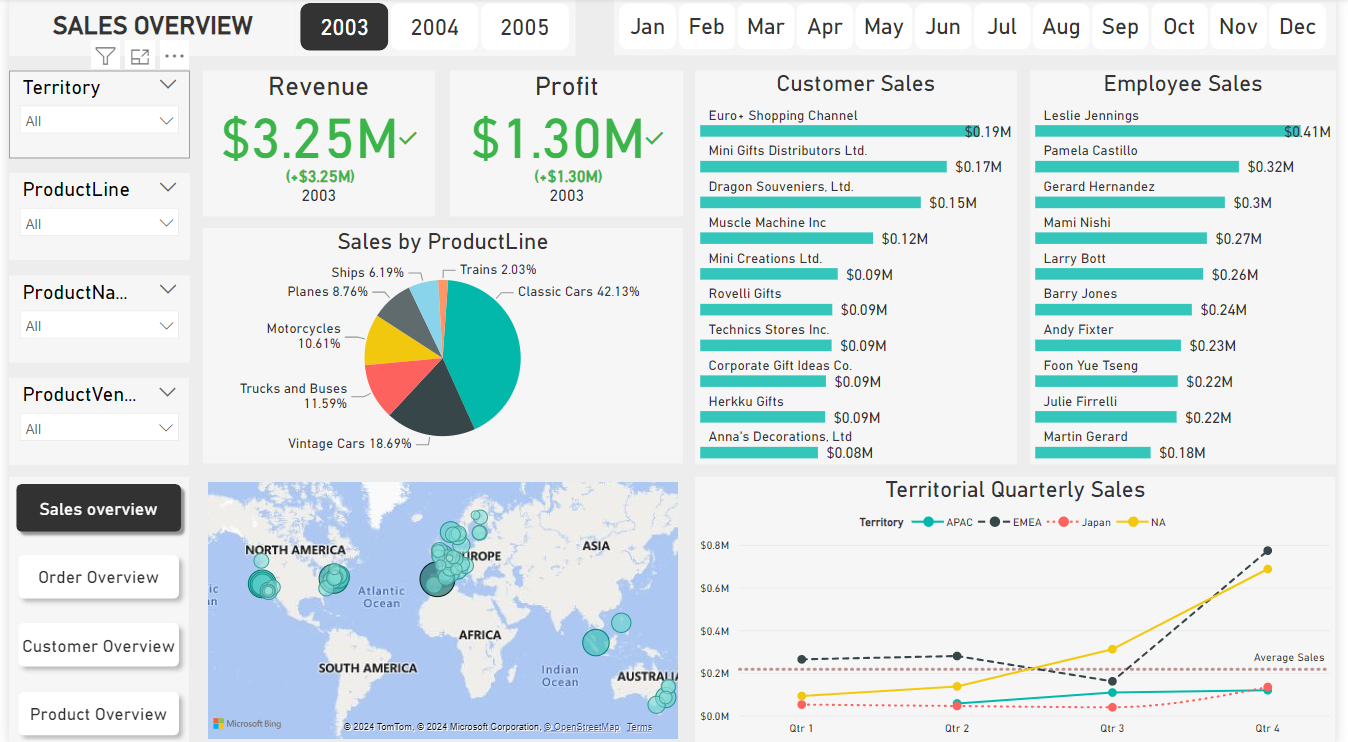

Layout of this report page (visuals, bound fields, positions):
{"tool":"powerbi","page":{"name":"Sales overview","canvas":[1280,720],"ordinal":0},"visuals":[{"type":"textbox","box":[0,0,275.7,55.7],"z":0},{"type":"advancedSlicerVisual","fields":{"Values":["Date.Date.Variation.Date Hierarchy.Year"]},"box":[276.3,0,270.2,56.2],"z":1000},{"type":"advancedSlicerVisual","fields":{"Values":["Date.Month"]},"box":[583.3,0,696.7,55.6],"z":2000},{"type":"slicer","fields":{"Values":["dimoffices.Territory"]},"box":[0,70,174.3,84.3],"z":3000},{"type":"slicer","fields":{"Values":["dimproducts.ProductLine"]},"box":[0,168.6,174.3,84.3],"z":4000},{"type":"slicer","fields":{"Values":["dimproducts.ProductName"]},"box":[0,267.1,174.3,84.3],"z":5000},{"type":"slicer","fields":{"Values":["dimproducts.ProductVendor"]},"box":[0,366.2,173.8,83.8],"z":6000},{"type":"kpi","title":"Revenue","fields":{"Indicator":["Measures (2).Total Sales"],"Goal":["Measures (2).Previous Year Sales"],"TrendLine":["Date.Year"]},"box":[187,69.7,223.7,140.6],"z":7000},{"type":"pieChart","title":"Sales by ProductLine","fields":{"Category":["dimproducts.ProductLine"],"Y":["Measures (2).Total Sales"]},"box":[187,222.5,463.3,227.4],"z":8000},{"type":"kpi","title":"Profit","fields":{"Indicator":["Measures (2).Total Profit"],"TrendLine":["Date.Year"],"Goal":["Measures (2).Previous year Profit"]},"box":[425.4,69.7,224.9,140.6],"z":9000},{"type":"clusteredBarChart","title":"Customer Sales","fields":{"Category":["dimcustomer.customerName"],"Y":["Measures (2).labels placeholder","Measures (2).Total Sales"]},"box":[662.5,70,310,380],"z":10000},{"type":"clusteredBarChart","title":"Employee Sales","fields":{"Y":["Measures (2).labels placeholder","Measures (2).Total Sales"],"Category":["dimemployees.Emp Name"]},"box":[985.3,69.9,294.3,379.9],"z":11000},{"type":"lineChart","title":"Territorial Quarterly Sales","fields":{"Y":["Measures (2).Total Sales"],"Series":["dimoffices.Territory"],"Category":["Date.Date.Variation.Date Hierarchy.Quarter"]},"box":[662.5,462.5,617.5,257.5],"z":12000},{"type":"map","fields":{"Category":["dimcustomer.city"],"Size":["Measures (2).Total Sales"]},"box":[187.5,462.5,463.8,257.5],"z":13000},{"type":"pageNavigator","box":[0,461.9,173.7,258.1],"z":14000}]}

Visuals, with their boxes in screenshot pixels (x1, y1, x2, y2), scaled from the page's 1280x720 canvas onto the 1348x742 screenshot:
textbox: [0,0,290,57]
advancedSlicerVisual - Date.Date.Variation.Date Hierarchy.Year: [291,0,576,58]
advancedSlicerVisual - Date.Month: [614,0,1347,57]
slicer - dimoffices.Territory: [0,72,184,159]
slicer - dimproducts.ProductLine: [0,174,184,261]
slicer - dimproducts.ProductName: [0,275,184,362]
slicer - dimproducts.ProductVendor: [0,377,183,464]
"Revenue" kpi: [197,72,433,217]
"Sales by ProductLine" pieChart: [197,229,685,464]
"Profit" kpi: [448,72,685,217]
"Customer Sales" clusteredBarChart: [698,72,1024,464]
"Employee Sales" clusteredBarChart: [1038,72,1347,464]
"Territorial Quarterly Sales" lineChart: [698,477,1347,741]
map - dimcustomer.city x Measures (2).Total Sales: [197,477,686,741]
pageNavigator: [0,476,183,741]
